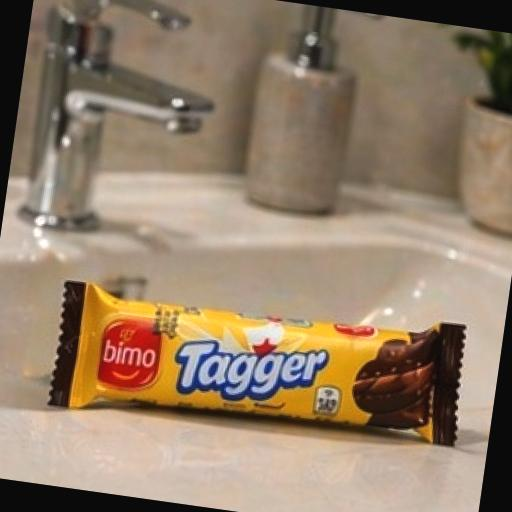tagger: (16, 231, 505, 512)
